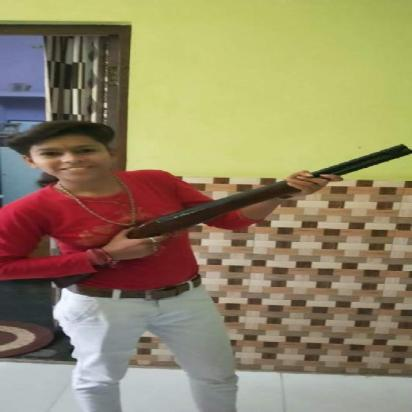Gun: (48, 142, 411, 291)
